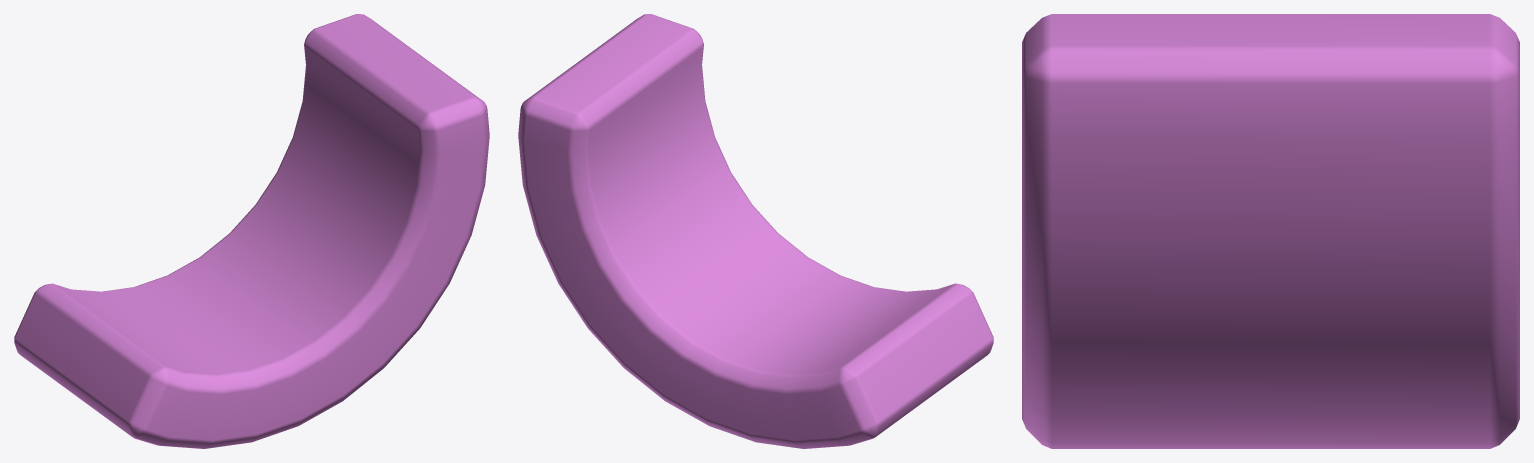
The model's file is pedesway.fbx.
The picture shows the model from 3 angles, left to right: view 1: azimuth 30°, elevation 25°; view 2: azimuth 150°, elevation 25°; view 3: azimuth 270°, elevation 25°; orthographic projection. The views are drawn at different scales.
Visible parts, largest first — view 1: Circle.010; view 2: Circle.010; view 3: Circle.010.
Part boxes in pixels (x1=…): Circle.010: x1=14, y1=14, x2=489, y2=448; Circle.010: x1=518, y1=14, x2=993, y2=448; Circle.010: x1=1022, y1=14, x2=1519, y2=448.
Bounding box in the file's own units: 3.87 × 2.99 × 2.39.
